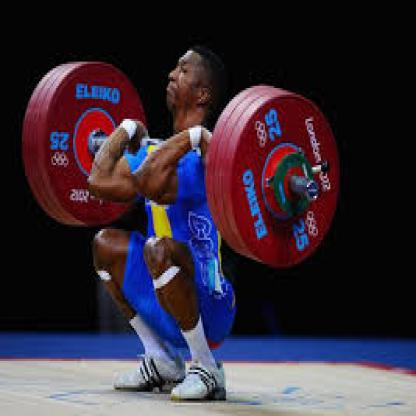Barbell: (203, 80, 347, 272)
